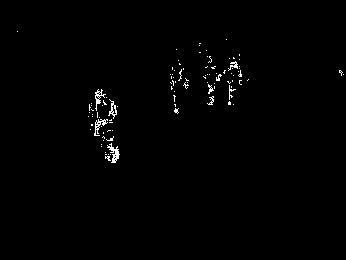person: (87, 87, 123, 166), (215, 55, 246, 107), (166, 54, 191, 116), (199, 49, 219, 111)
